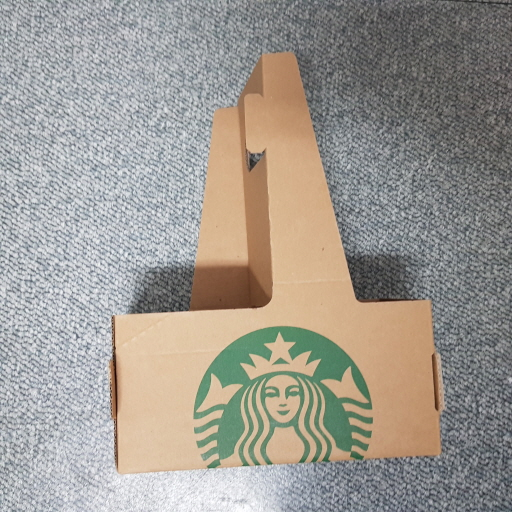Paper_0: (99, 45, 460, 473)
